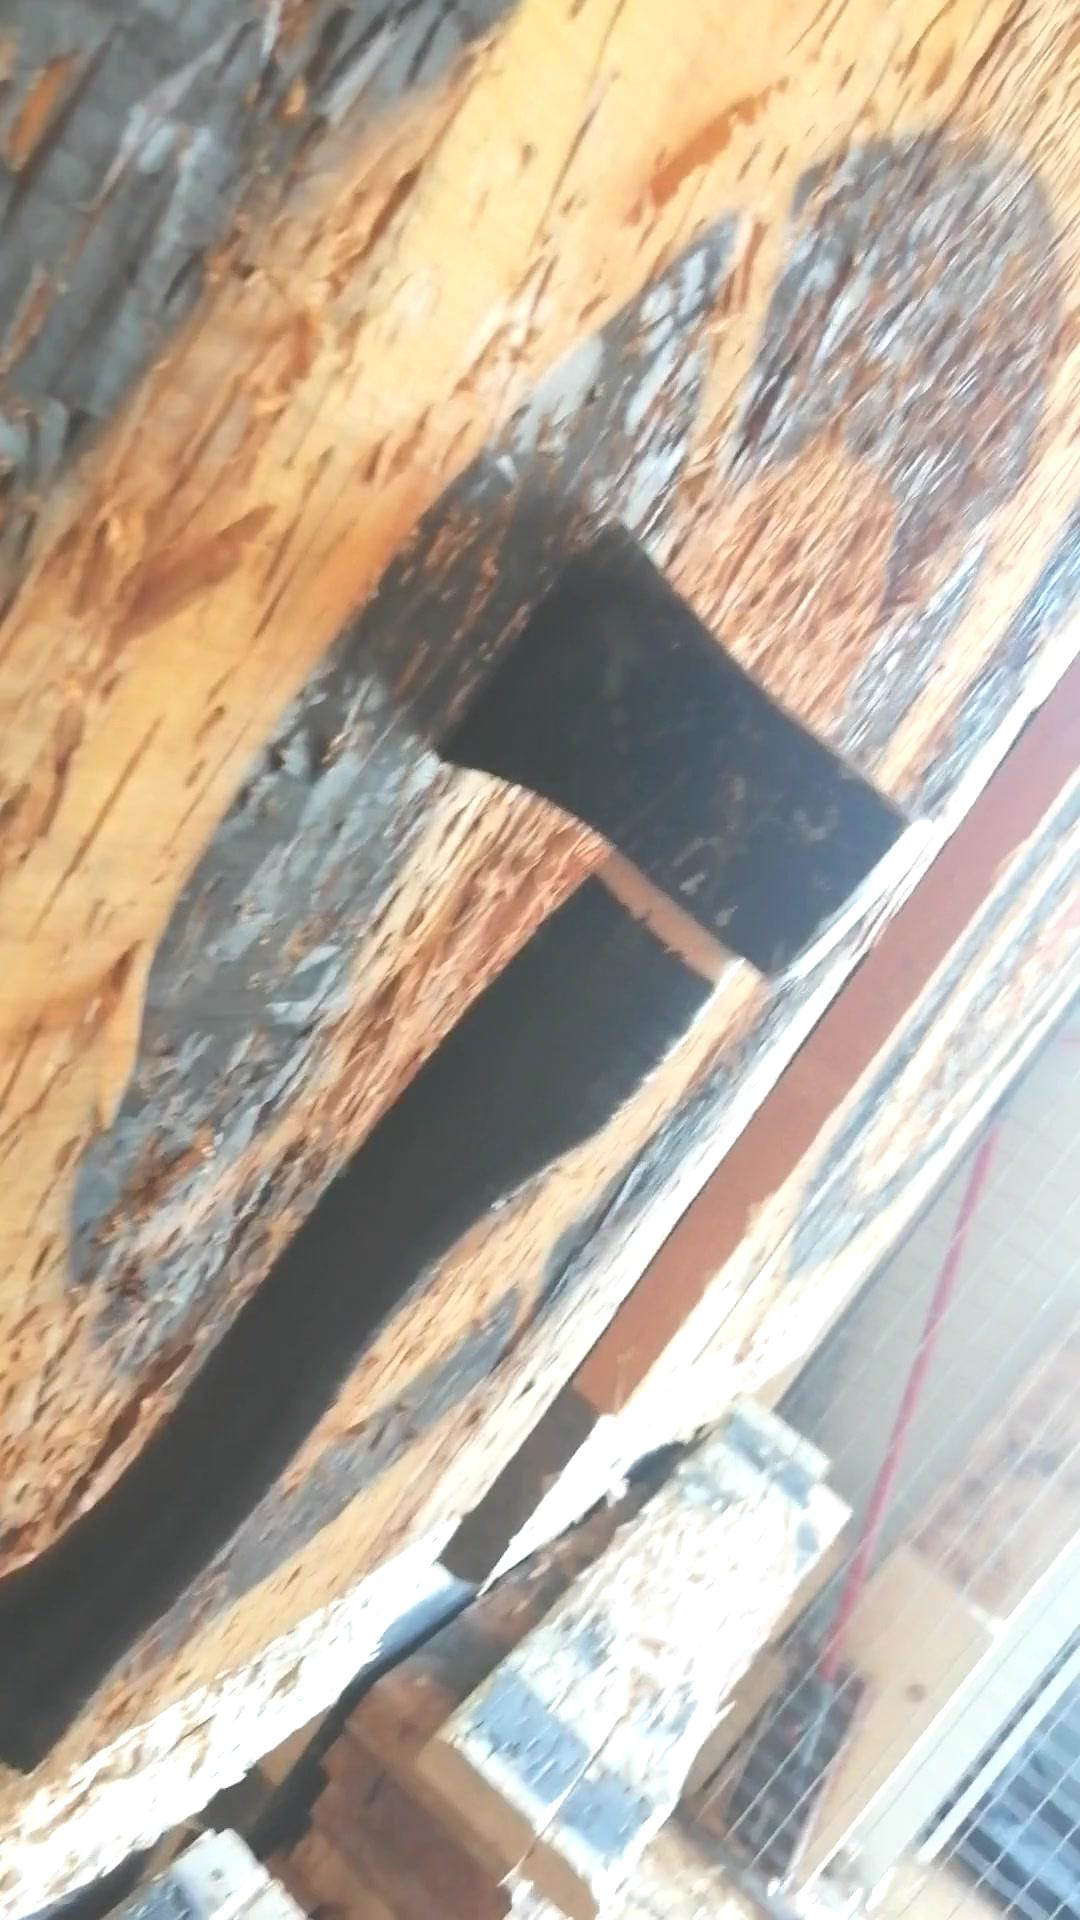Hand Axe: (430, 520, 942, 982)
